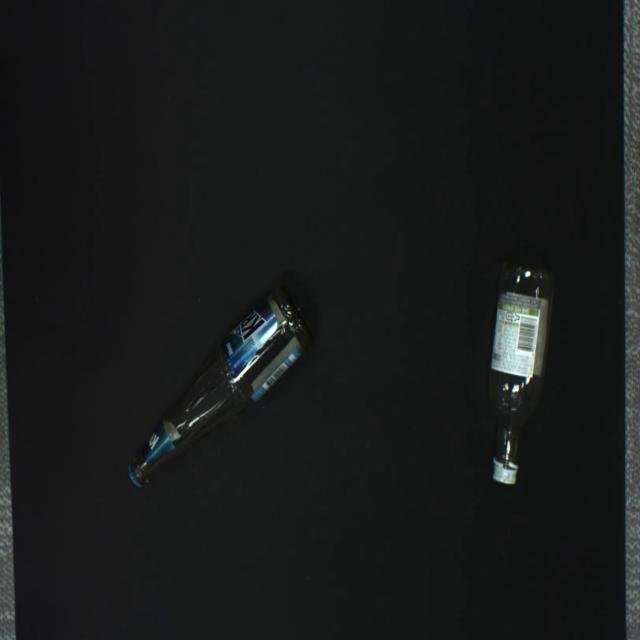beer-bottle: (128, 287, 313, 488)
soju-bottle: (488, 262, 554, 484)
